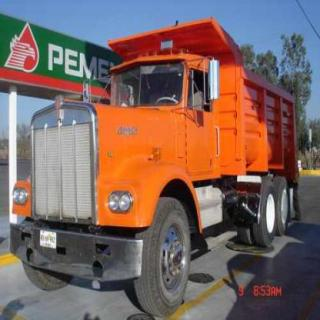Normal_vehicle: (6, 12, 304, 290)
